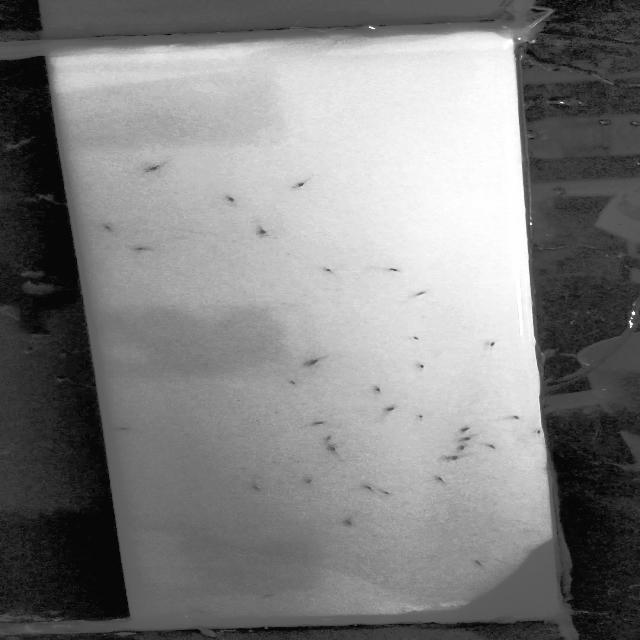shrimp: (144, 155, 178, 176), (367, 402, 402, 415), (106, 422, 141, 434), (451, 432, 484, 444), (324, 444, 348, 460), (405, 288, 432, 302), (303, 357, 332, 370), (301, 474, 326, 489), (443, 445, 474, 456), (216, 192, 242, 205), (288, 178, 316, 190), (364, 482, 384, 498), (255, 588, 281, 600), (316, 432, 342, 444), (382, 266, 410, 277), (366, 382, 386, 397), (99, 222, 122, 235), (303, 421, 337, 429), (439, 454, 466, 464), (448, 426, 475, 436), (242, 480, 268, 490), (250, 225, 267, 240), (412, 359, 430, 373), (468, 555, 490, 566), (402, 333, 424, 344), (378, 489, 398, 501), (430, 474, 454, 484), (320, 266, 344, 276), (189, 607, 212, 617), (336, 515, 353, 528), (509, 413, 526, 426), (484, 443, 502, 455), (285, 376, 306, 386), (411, 414, 432, 422), (532, 428, 550, 437), (485, 340, 501, 350), (127, 245, 150, 251)
